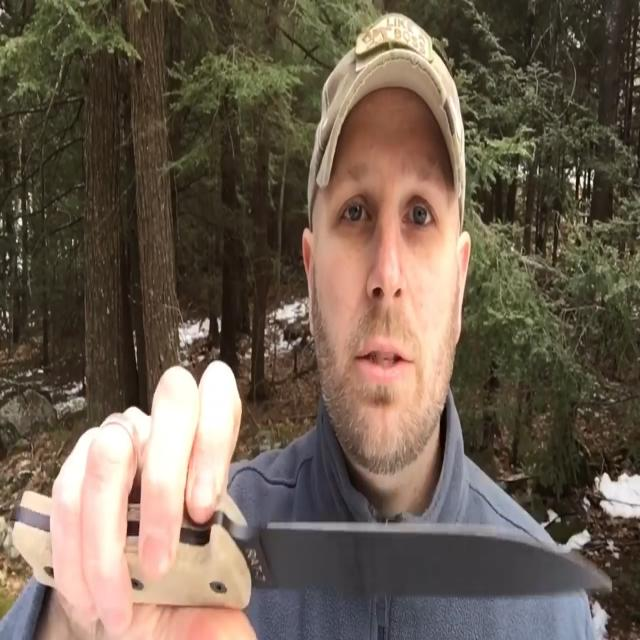knife: (12, 487, 618, 605)
